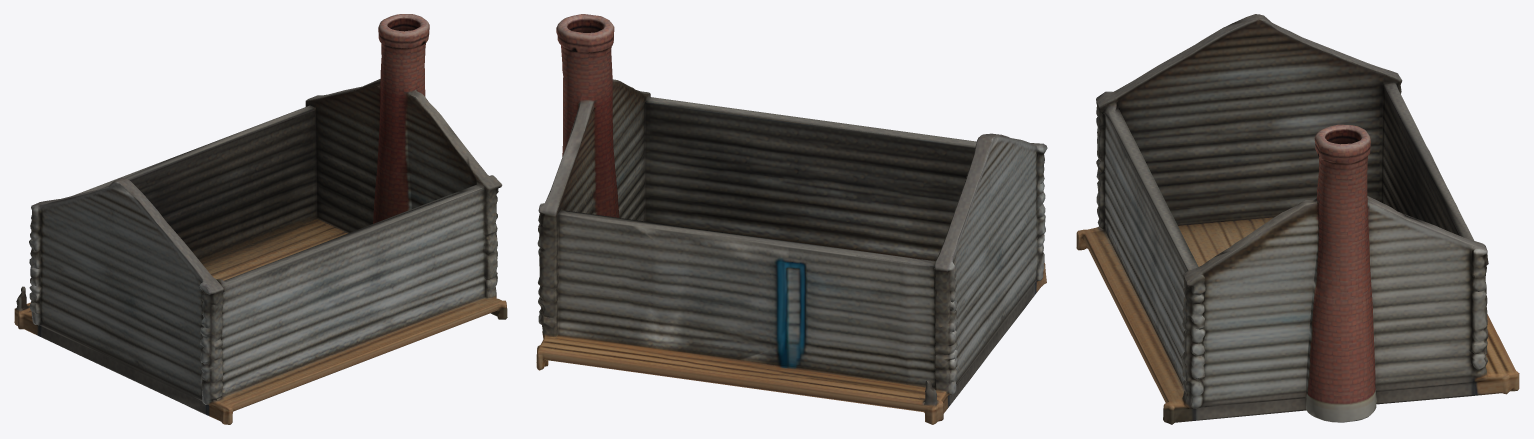
File: walls1.obj
3 views of the same model, side by side, from view 1: azimuth 30°, elevation 25°; view 2: azimuth 150°, elevation 25°; view 3: azimuth 270°, elevation 25° (orthographic). The views are drawn at different scales.
Parts seen in each view (by area): view 1: Wallsgeom1; view 2: Wallsgeom1; view 3: Wallsgeom1.
Boxes of the visible parts, x1=… form: Wallsgeom1: x1=14, y1=14, x2=507, y2=424; Wallsgeom1: x1=536, y1=14, x2=1047, y2=424; Wallsgeom1: x1=1076, y1=14, x2=1519, y2=424.
Size of the model in its own units: 16.3 by 10 by 14.53.
Materials: 1 (1 with a texture image).
